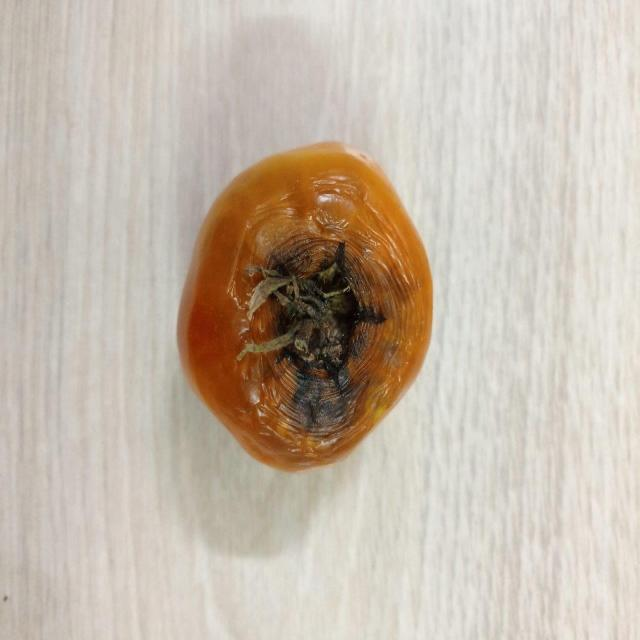Rotten: (178, 142, 432, 470)
